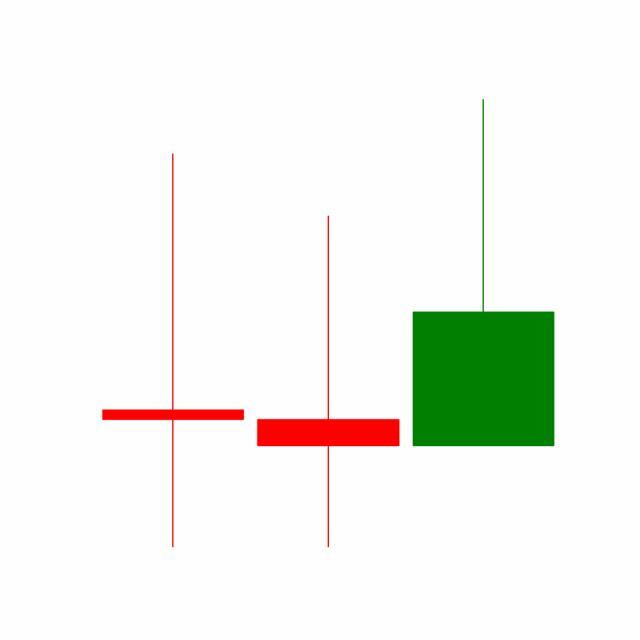Spinning Top: (250, 213, 407, 552)
